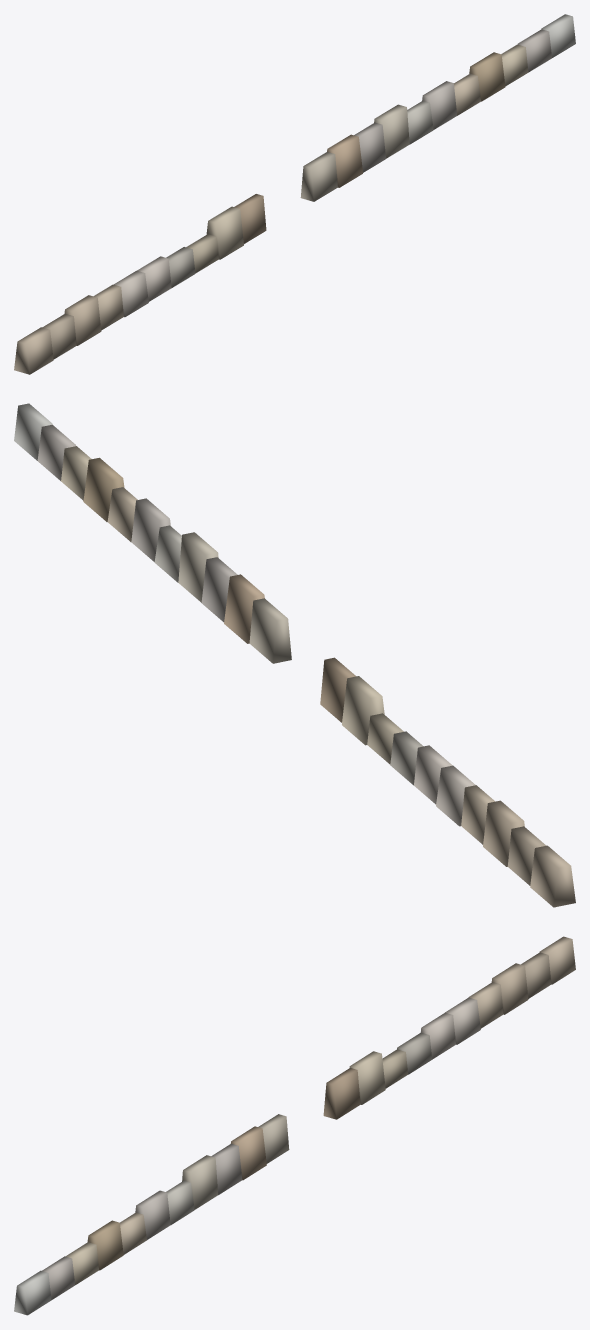
The model's file is farm_-23_-22_collision.glb.
The picture shows the model from 3 angles, top to bottom: view 1: azimuth 90°, elevation 25°; view 2: azimuth 150°, elevation 25°; view 3: azimuth 270°, elevation 25°; orthographic projection. The views are drawn at different scales.
Visible parts, largest first — view 1: geometry_0; view 2: geometry_0; view 3: geometry_0.
Boxes of the visible parts, box(x1,y1,x2,y2) form: geometry_0: box(14, 14, 575, 374); geometry_0: box(14, 403, 575, 907); geometry_0: box(14, 936, 575, 1315).
Bounding box in the file's own units: 30.26 × 1.67 × 20.98.
